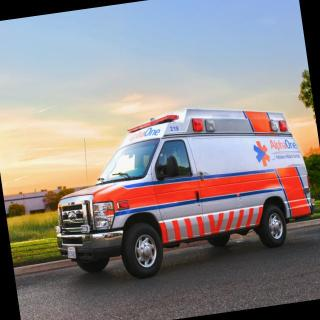Ambulance: (22, 65, 320, 303)
